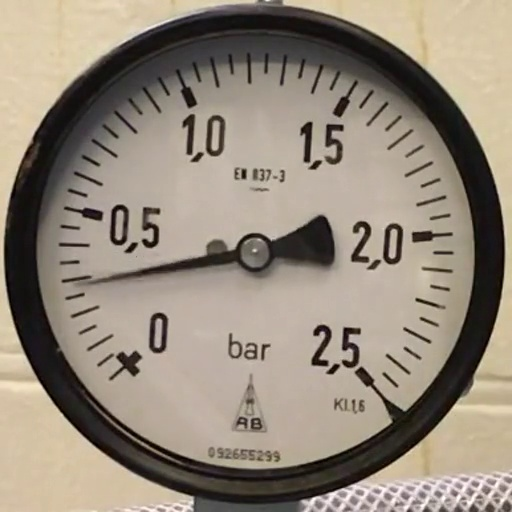base: (235, 233, 273, 272)
circle_plate: (46, 35, 475, 467)
maximum: (353, 365, 374, 387)
minimum: (116, 348, 142, 376)
number: (350, 220, 403, 270), (310, 324, 361, 375), (107, 204, 161, 252), (181, 112, 226, 163), (300, 119, 345, 169), (146, 311, 168, 356)
tip: (72, 279, 82, 289)
